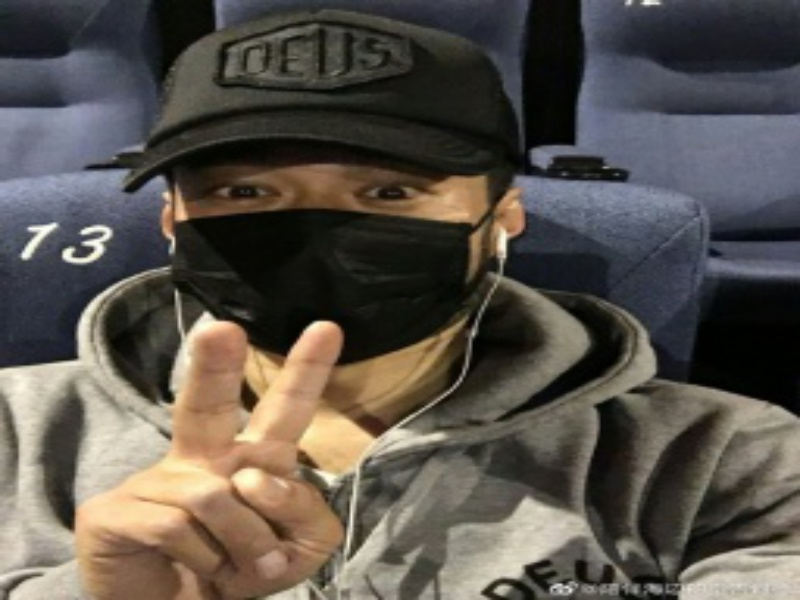ManaoArotava: (130, 145, 521, 384)
